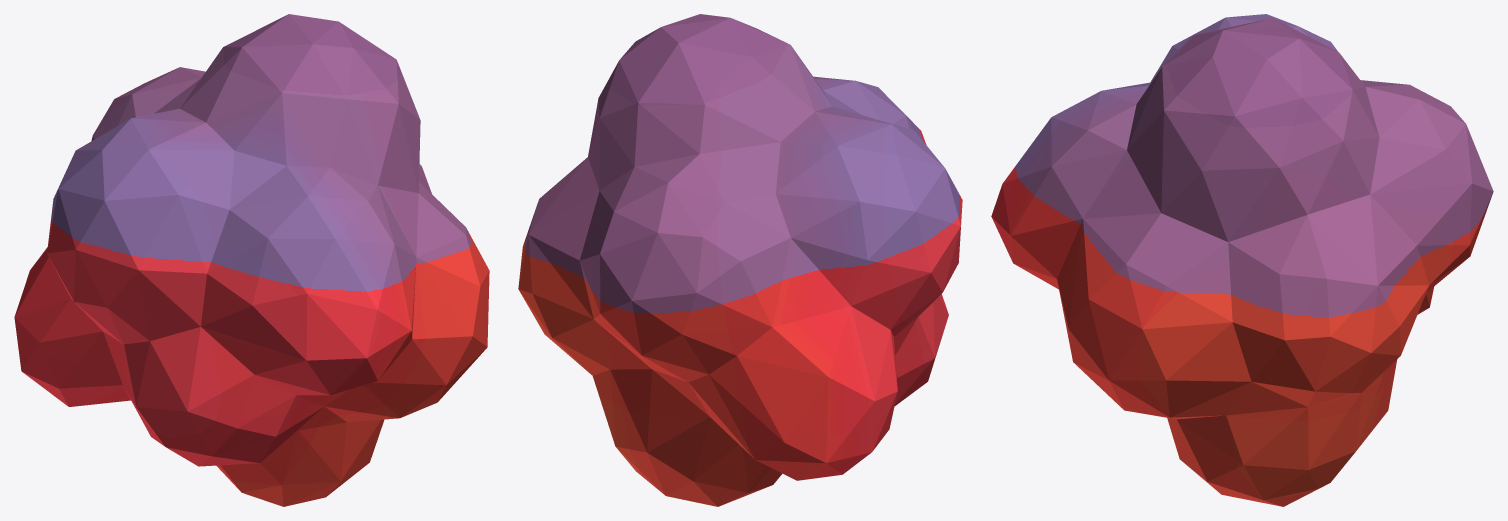
The model's file is Fruit2.obj.
3 views of the same model, side by side, from view 1: azimuth 30°, elevation 25°; view 2: azimuth 150°, elevation 25°; view 3: azimuth 270°, elevation 25° (orthographic).
Visible parts, largest first — view 1: Fruit3:Group47677 group1; view 2: Fruit3:Group47677 group1; view 3: Fruit3:Group47677 group1.
Boxes of the visible parts, <box> form: Fruit3:Group47677 group1: <box>14,14,489,506</box>; Fruit3:Group47677 group1: <box>518,14,962,506</box>; Fruit3:Group47677 group1: <box>991,14,1493,506</box>.
Size of the model in its own units: 2.73 by 3.1 by 3.02.
1 material, 1 textured.
